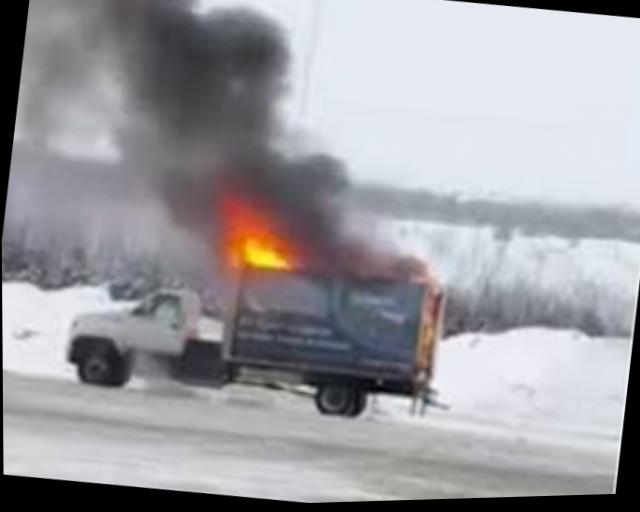fire: (206, 187, 325, 289)
